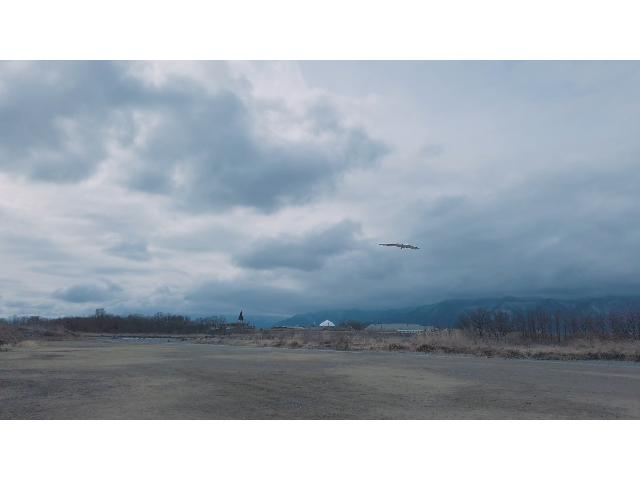Anti-Drone: (377, 236, 421, 256)
